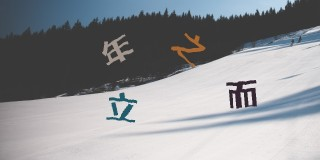之: (171, 32, 206, 68), (102, 35, 134, 65)
立: (106, 91, 138, 123)
而: (224, 80, 258, 109)
